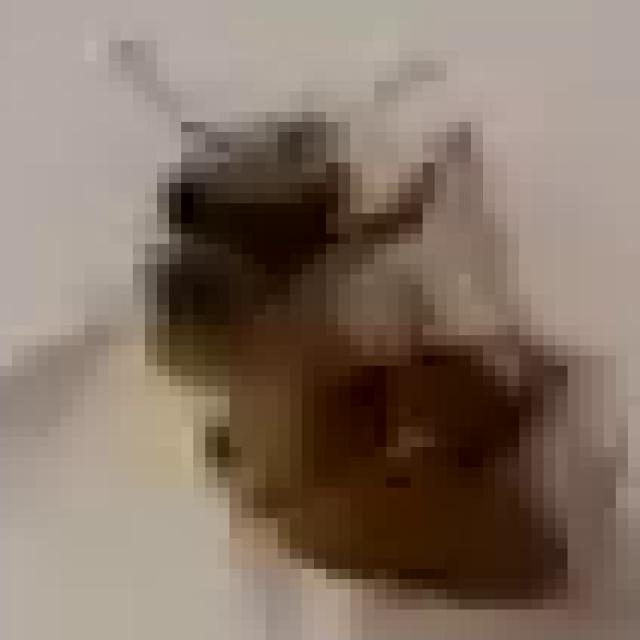honeybee: (111, 50, 602, 640)
